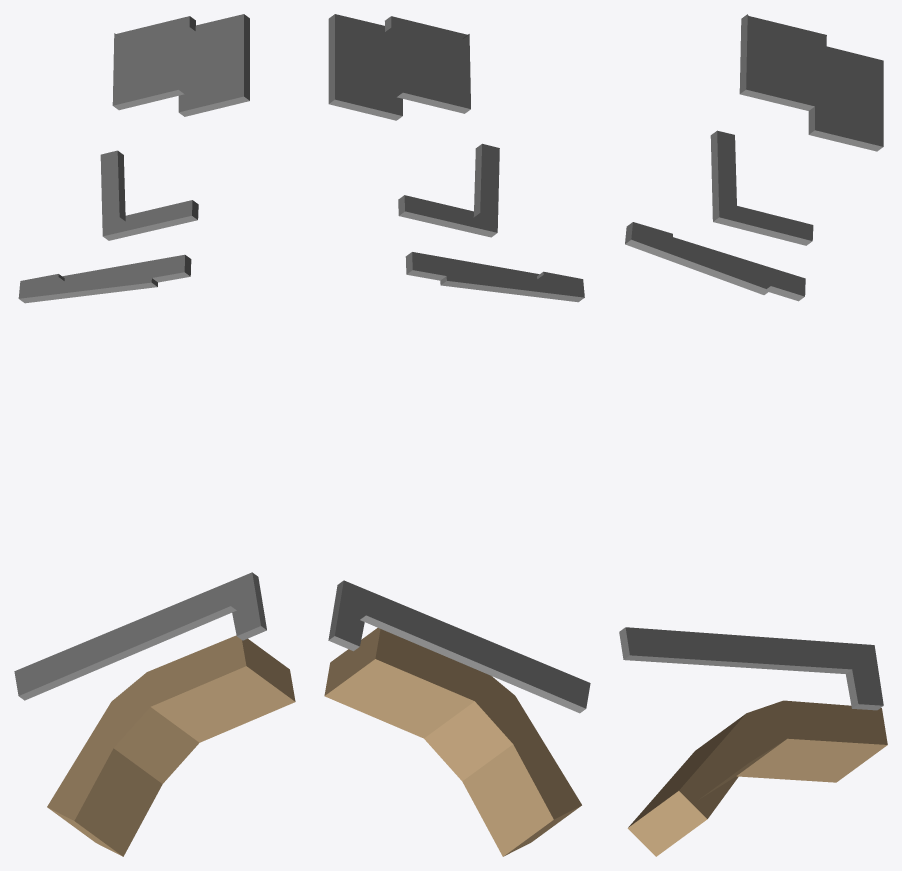
3 renders of one model, left to right at view 1: azimuth 30°, elevation 25°; view 2: azimuth 150°, elevation 25°; view 3: azimuth 330°, elevation 25°, orthographic. The views are drawn at different scales.
Visible parts, largest first — view 1: 0_3_2_0_1_0_0; view 2: 0_3_2_0_1_0_0; view 3: 0_3_2_0_1_0_0.
Boxes of the visible parts, x1,y1,x2,y2 form: 0_3_2_0_1_0_0: [14, 14, 295, 856]; 0_3_2_0_1_0_0: [324, 14, 590, 856]; 0_3_2_0_1_0_0: [619, 14, 887, 856].
Size of the model in its own units: 69.55 by 210 by 24.
